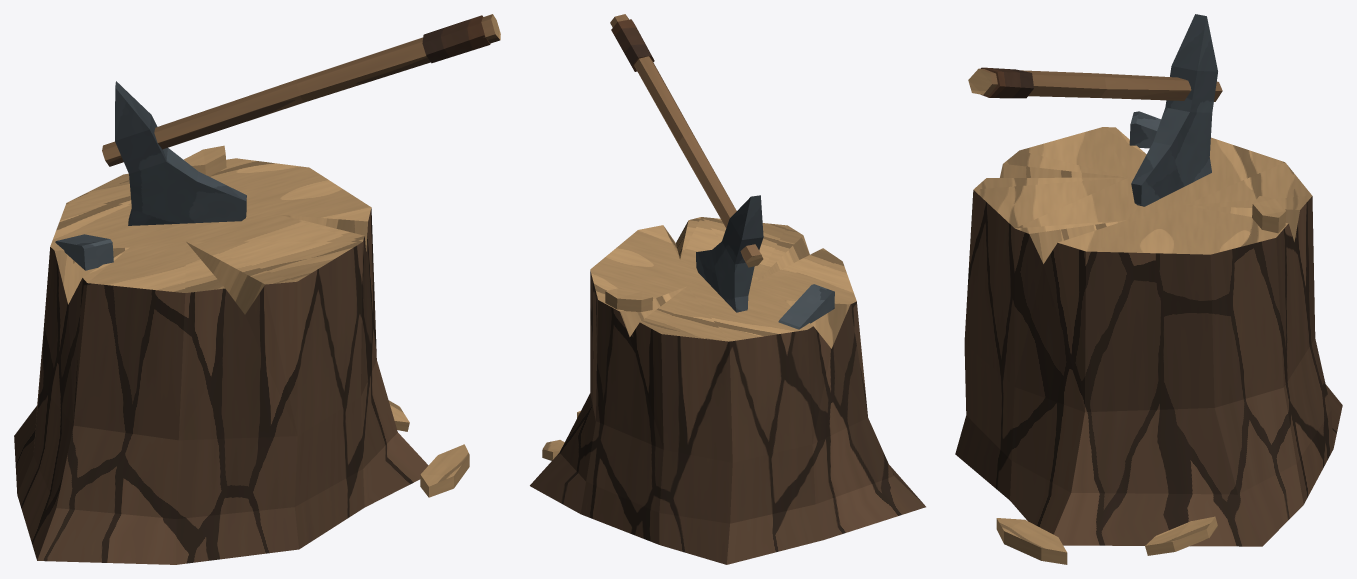
The model's file is SM_ChoppingBlock.fbx.
3 views of the same model, side by side, from view 1: azimuth 30°, elevation 25°; view 2: azimuth 150°, elevation 25°; view 3: azimuth 270°, elevation 25° (orthographic). The views are drawn at different scales.
Visible parts, largest first — view 1: SM_ChoppingBlock; view 2: SM_ChoppingBlock; view 3: SM_ChoppingBlock.
Boxes of the visible parts, x1,y1,x2,y2 form: SM_ChoppingBlock: (14,14,500,564); SM_ChoppingBlock: (530,14,925,564); SM_ChoppingBlock: (955,14,1342,564).
Size of the model in its own units: 0.8194 by 0.8648 by 0.6225.
